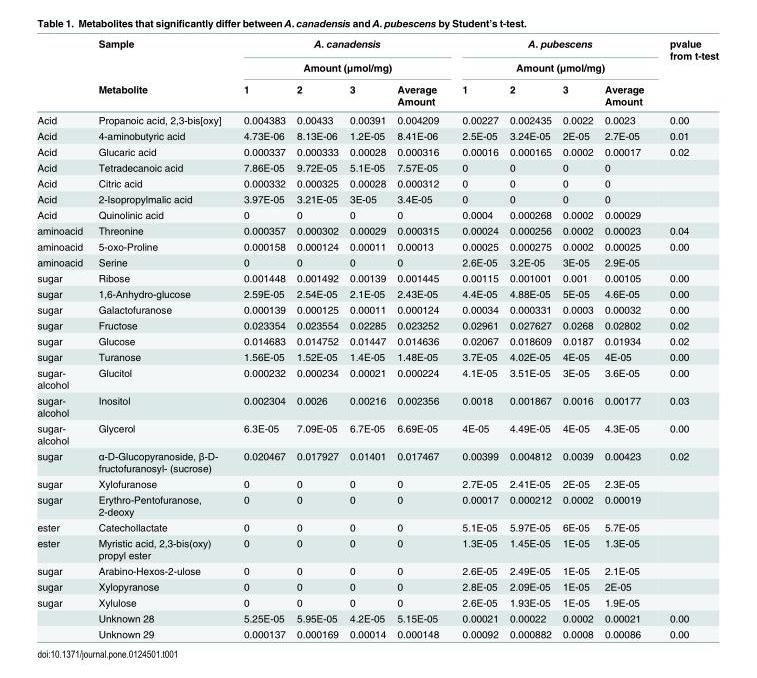table: (36, 36, 718, 639)
table column: (89, 36, 231, 639), (656, 36, 718, 639), (231, 36, 290, 639), (390, 36, 449, 639), (598, 36, 656, 639), (449, 36, 503, 639), (36, 36, 89, 639), (290, 36, 343, 639), (503, 36, 556, 639), (343, 36, 390, 639), (556, 36, 598, 639)
table column header: (36, 36, 718, 110)
table row: (36, 77, 718, 110), (36, 364, 718, 392), (36, 419, 718, 447), (36, 447, 718, 475), (36, 491, 718, 519), (36, 534, 718, 562), (36, 392, 718, 419), (36, 36, 718, 61), (36, 110, 718, 127), (36, 61, 718, 77), (36, 127, 718, 143), (36, 143, 718, 159), (36, 159, 718, 175), (36, 190, 718, 206), (36, 206, 718, 222), (36, 222, 718, 238), (36, 253, 718, 269), (36, 269, 718, 285), (36, 285, 718, 301), (36, 301, 718, 317), (36, 332, 718, 348), (36, 348, 718, 364), (36, 475, 718, 491), (36, 562, 718, 578), (36, 578, 718, 594), (36, 609, 718, 625), (36, 175, 718, 190), (36, 238, 718, 253), (36, 317, 718, 332), (36, 519, 718, 534), (36, 594, 718, 609), (36, 625, 718, 639)
table spanning cell: (89, 36, 231, 110), (231, 36, 449, 77), (449, 36, 656, 77), (656, 36, 718, 110), (36, 594, 89, 639)
